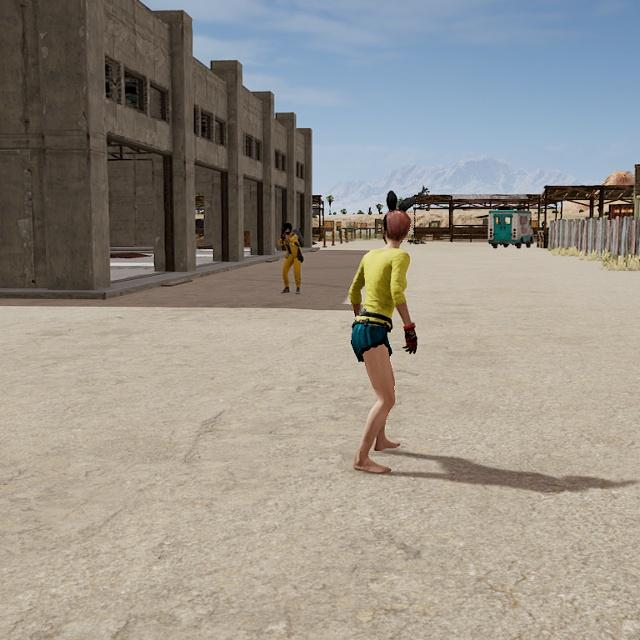head: (379, 209, 414, 249), (281, 222, 294, 236)
people: (345, 207, 422, 476), (276, 220, 305, 297)
